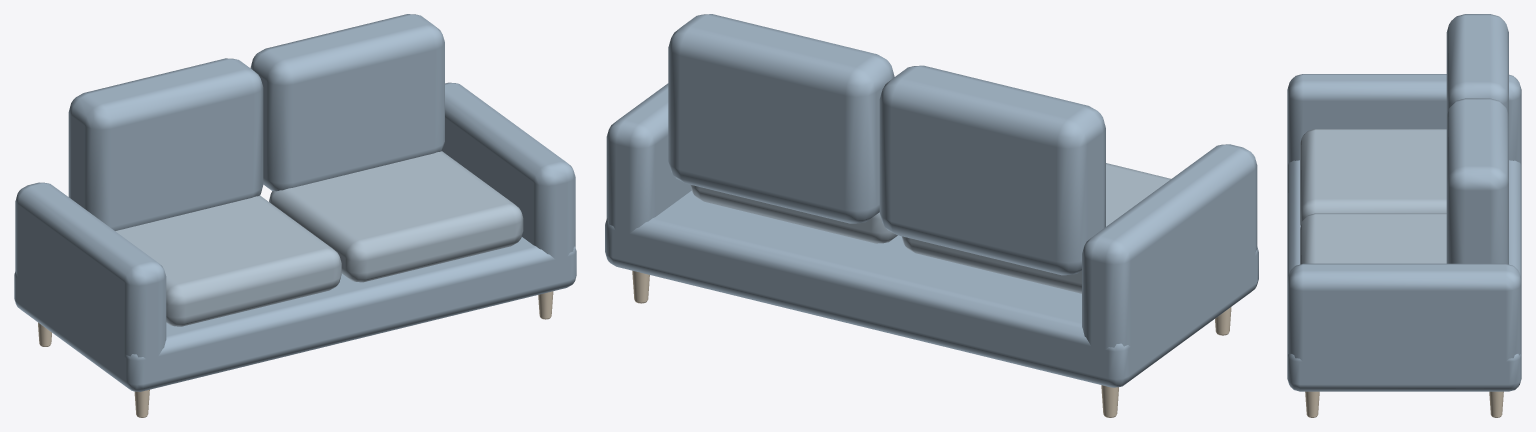
File: sofa.glb
3 views of the same model, side by side, from view 1: azimuth 30°, elevation 25°; view 2: azimuth 150°, elevation 25°; view 3: azimuth 270°, elevation 25° (orthographic). The views are drawn at different scales.
Visible parts, largest first — view 1: sofa; view 2: sofa; view 3: sofa.
Part boxes in pixels (x1,y1,x2,y2): sofa: [14, 14, 576, 417]; sofa: [605, 14, 1258, 417]; sofa: [1287, 14, 1521, 417].
Bounding box in the file's own units: 1.58 × 0.82 × 0.75.
